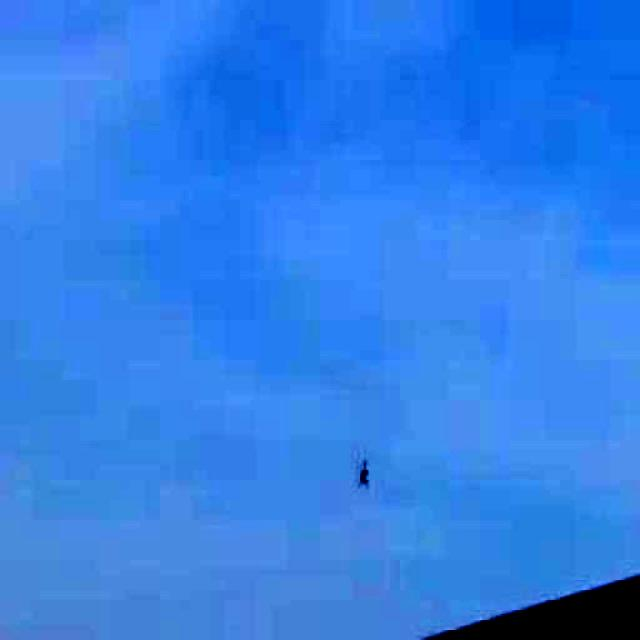drone: (339, 444, 391, 504)
